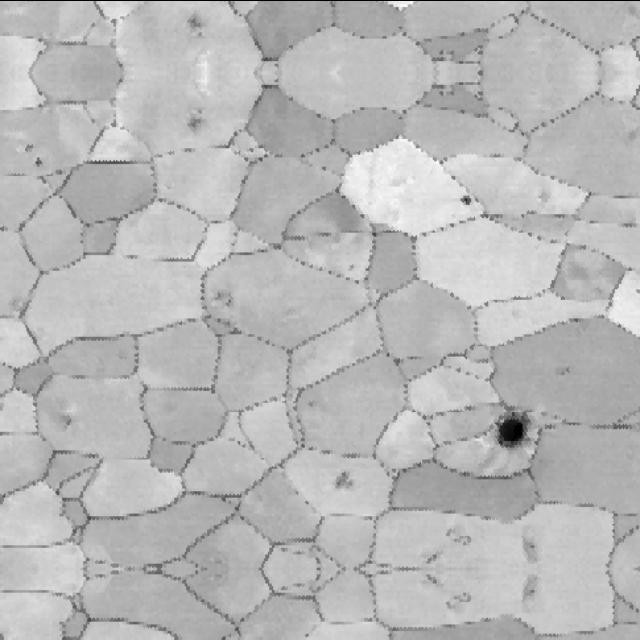good_void: (487, 404, 528, 458), (178, 101, 215, 135), (178, 7, 215, 41), (438, 519, 477, 551), (438, 583, 477, 615), (51, 397, 77, 435), (327, 465, 358, 495), (419, 543, 451, 568), (419, 566, 451, 591), (391, 349, 426, 370), (208, 285, 238, 309), (521, 532, 544, 561), (521, 573, 544, 602), (20, 138, 40, 160), (554, 360, 574, 382), (455, 185, 472, 210), (533, 187, 553, 207), (112, 346, 131, 366), (301, 395, 318, 413), (344, 259, 359, 275), (32, 154, 45, 170)
